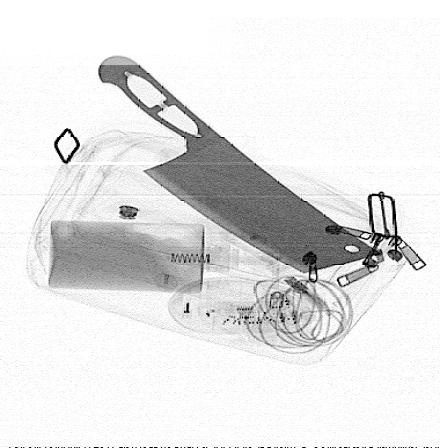Knife: (98, 53, 387, 278)
